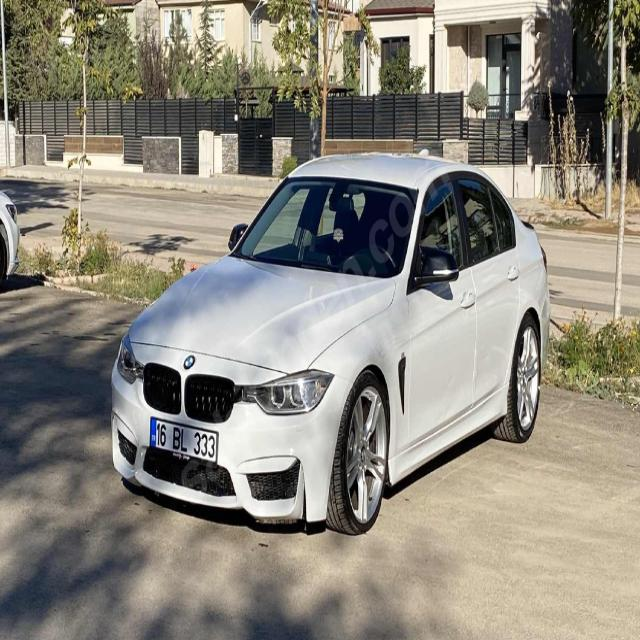bmw: (184, 353, 196, 372)
